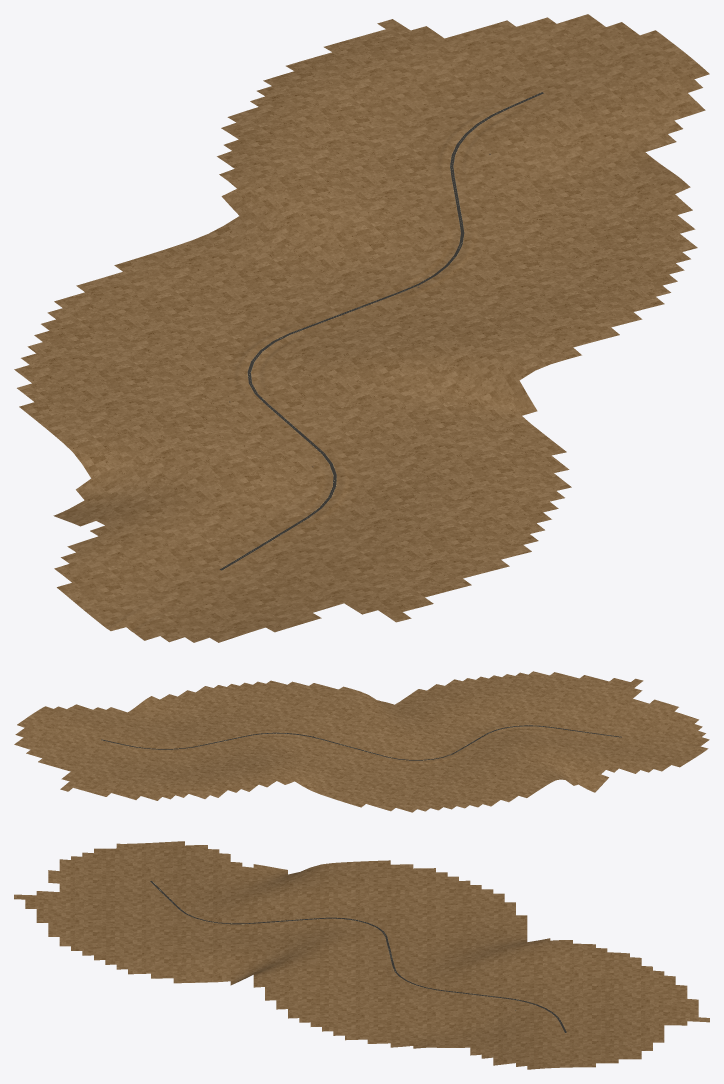
3 views of the same model, one above another, from view 1: azimuth 30°, elevation 25°; view 2: azimuth 150°, elevation 25°; view 3: azimuth 270°, elevation 25° (orthographic). The views are drawn at different scales.
Parts seen in each view (by area): view 1: S07_TERRAIN_LOD2_WEB_EXPORT, S07_ROAD_ASPHALT_LOD2_WEB_EXPORT; view 2: S07_TERRAIN_LOD2_WEB_EXPORT, S07_ROAD_ASPHALT_LOD2_WEB_EXPORT; view 3: S07_TERRAIN_LOD2_WEB_EXPORT, S07_ROAD_ASPHALT_LOD2_WEB_EXPORT.
Part boxes in pixels (x1,y1,x2,y2): S07_TERRAIN_LOD2_WEB_EXPORT: (14, 14, 709, 642); S07_ROAD_ASPHALT_LOD2_WEB_EXPORT: (219, 92, 543, 570); S07_TERRAIN_LOD2_WEB_EXPORT: (14, 671, 709, 812); S07_ROAD_ASPHALT_LOD2_WEB_EXPORT: (101, 725, 621, 760); S07_TERRAIN_LOD2_WEB_EXPORT: (14, 841, 709, 1069); S07_ROAD_ASPHALT_LOD2_WEB_EXPORT: (150, 881, 566, 1032).
Bounding box in the file's own units: 2360 × 244 × 2440.
Materials: 5 (5 with a texture image).
